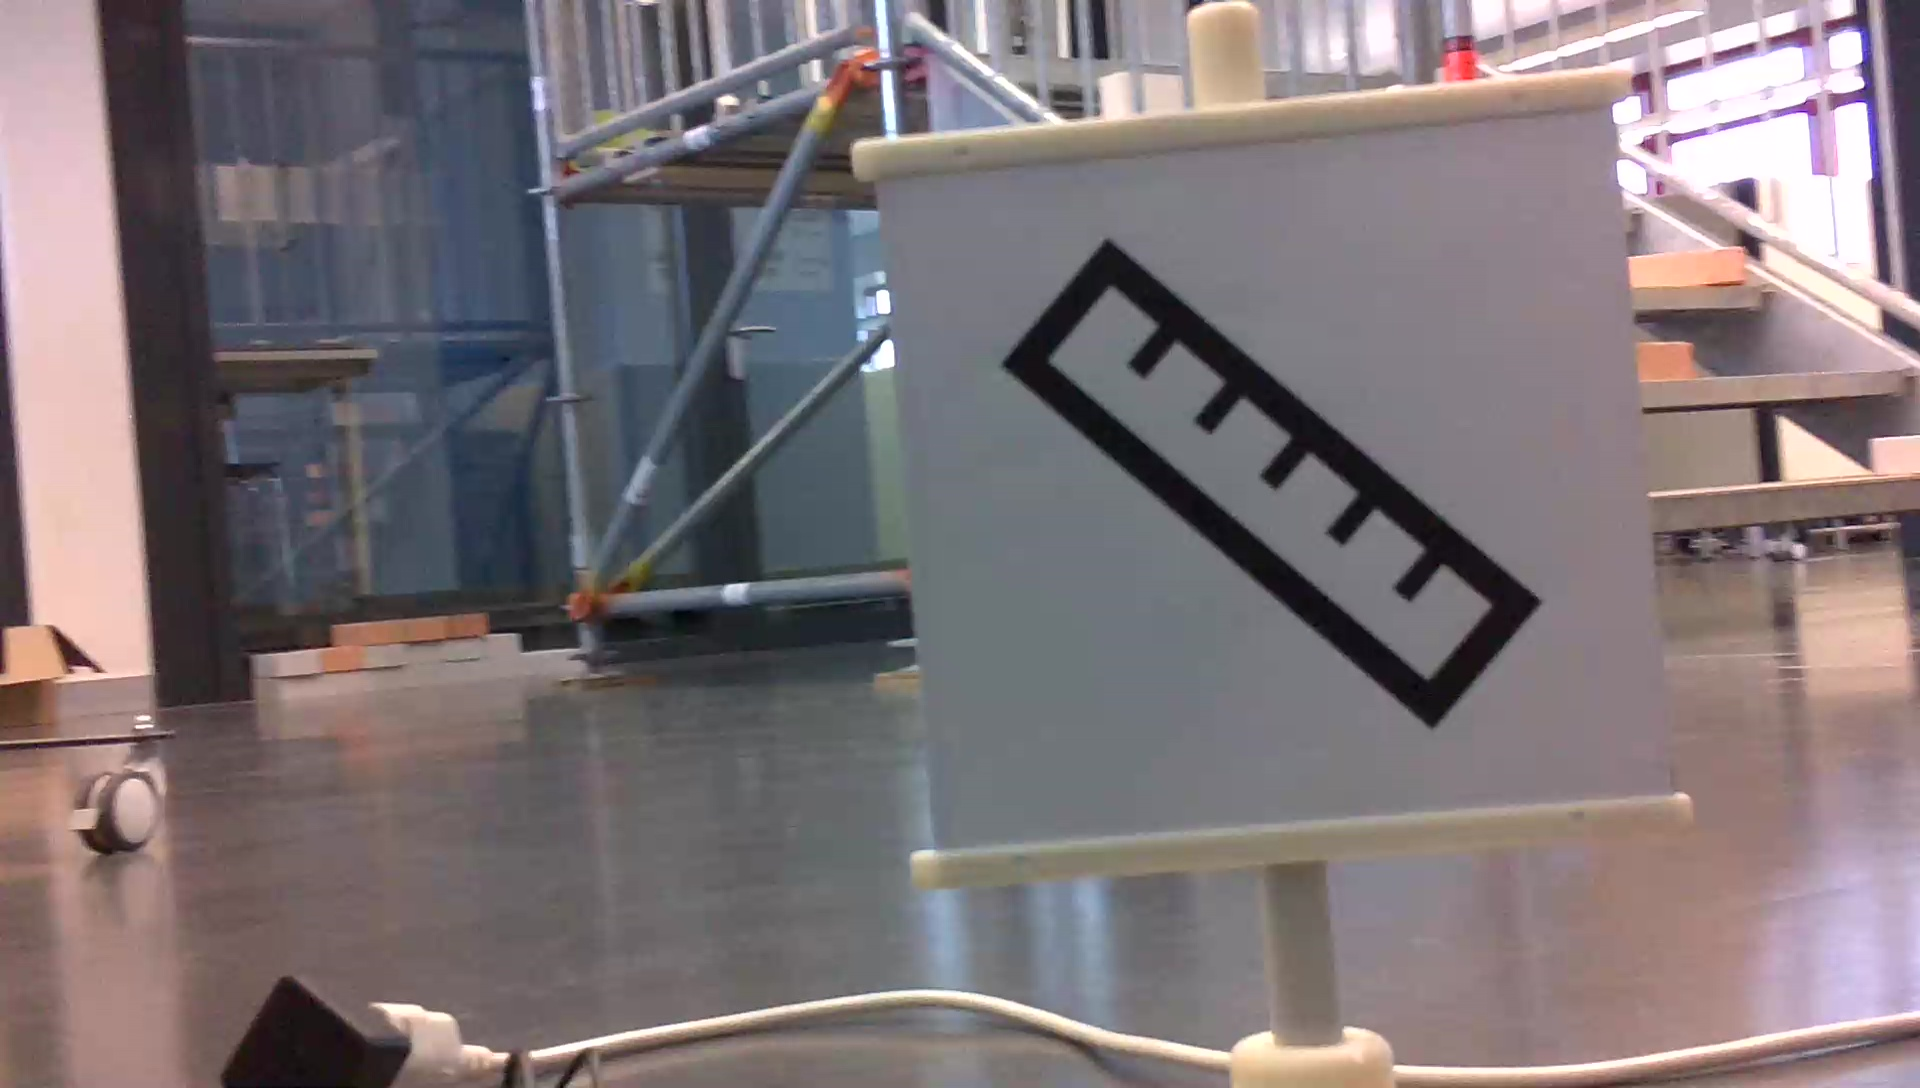brick: (1625, 243, 1756, 289), (1635, 331, 1691, 376)
ruler: (1007, 235, 1547, 736)
